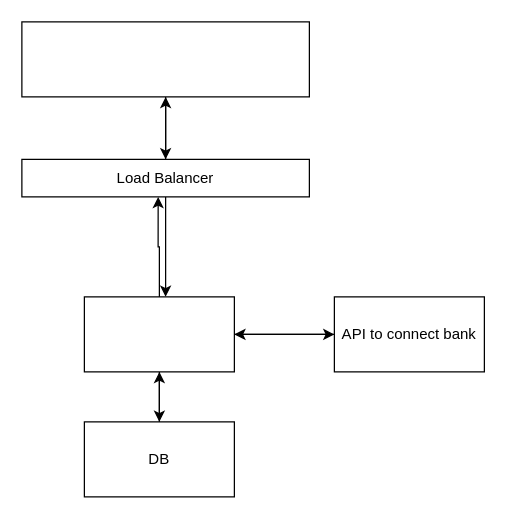
Some shapes in this 506 by 519 pixel diagram are drawn without their labels. The shapes that lost their labels are listed below. From the top down, each one's centre as x and y in pixels, then its label:
At (x=165, y=59): "Frontend".
At (x=158, y=334): "Backend".
